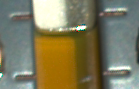border: (100, 67, 132, 79), (10, 71, 38, 84), (96, 9, 131, 19), (8, 12, 35, 23)
liquidlevel: (33, 27, 98, 42)
